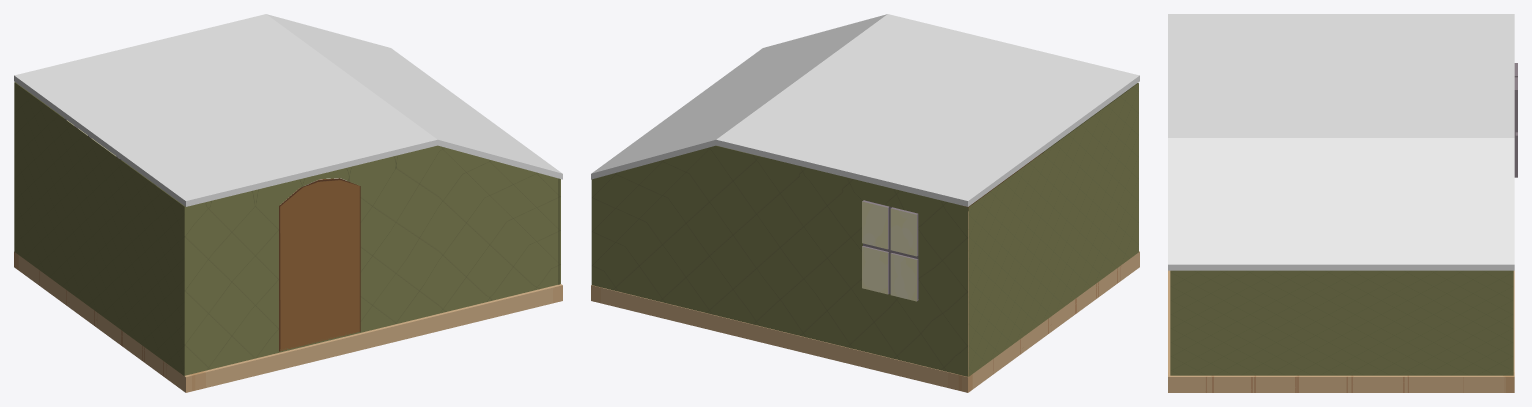
Rendered from bedroom.glb.
3 views of the same model, side by side, from view 1: azimuth 30°, elevation 25°; view 2: azimuth 150°, elevation 25°; view 3: azimuth 270°, elevation 25° (orthographic).
Visible parts, largest first — view 1: ceiling, wall 3, wall 2, door, room; view 2: ceiling, wall 1, wall 2, room, window; view 3: ceiling, wall 4, room, window.
Boxes of the visible parts, x1,y1,x2,y2 form: ceiling: [14, 14, 562, 206]; wall 3: [184, 145, 560, 375]; wall 2: [14, 82, 184, 375]; door: [279, 178, 360, 351]; room: [14, 190, 562, 392]; ceiling: [591, 14, 1139, 206]; wall 1: [591, 145, 968, 376]; wall 2: [968, 83, 1138, 376]; room: [591, 211, 1139, 392]; window: [862, 200, 918, 301]; ceiling: [1168, 14, 1514, 270]; wall 4: [1170, 270, 1513, 375]; room: [1168, 270, 1514, 392]; window: [1514, 63, 1517, 177].
Size of the model in its own units: 5.05 by 2.45 by 4.02.
8 materials, 8 textured.
